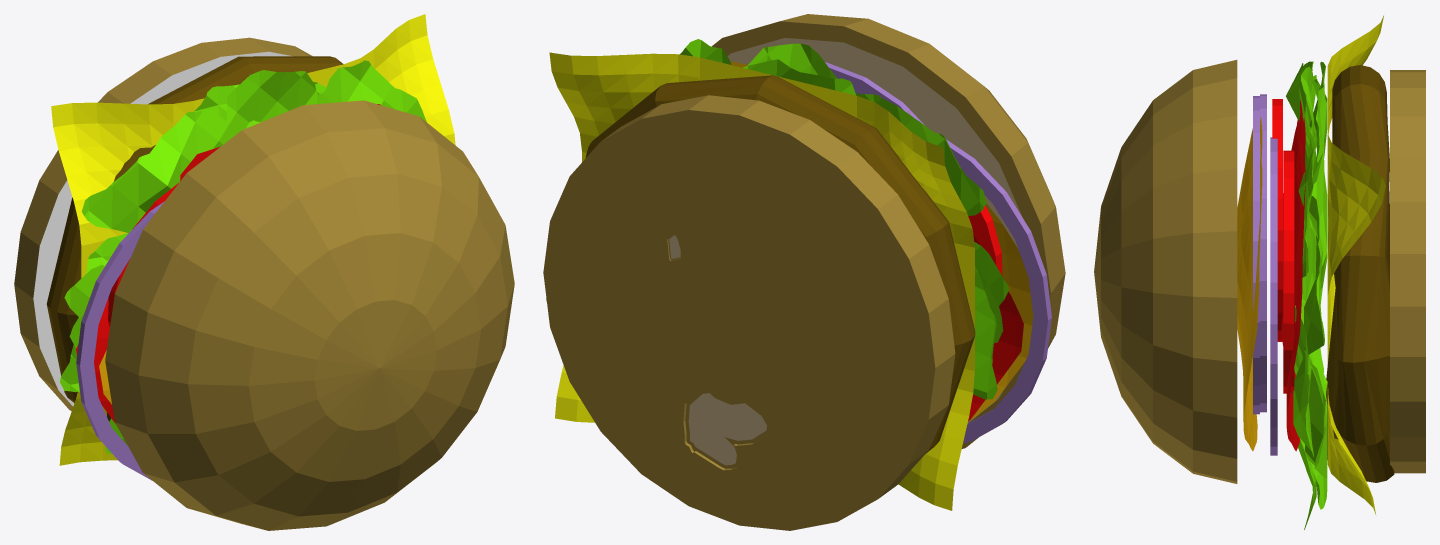
The picture shows the model from 3 angles, left to right: view 1: azimuth 30°, elevation 25°; view 2: azimuth 150°, elevation 25°; view 3: azimuth 270°, elevation 25°; orthographic projection. The views are drawn at different scales.
Visible parts, largest first — view 1: burger; view 2: burger; view 3: burger.
Part boxes in pixels (x1=…): burger: x1=14, y1=14, x2=514, y2=530; burger: x1=543, y1=14, x2=1065, y2=530; burger: x1=1094, y1=15, x2=1425, y2=529.
Size of the model in its own units: 5.34 by 4.94 by 3.61.
